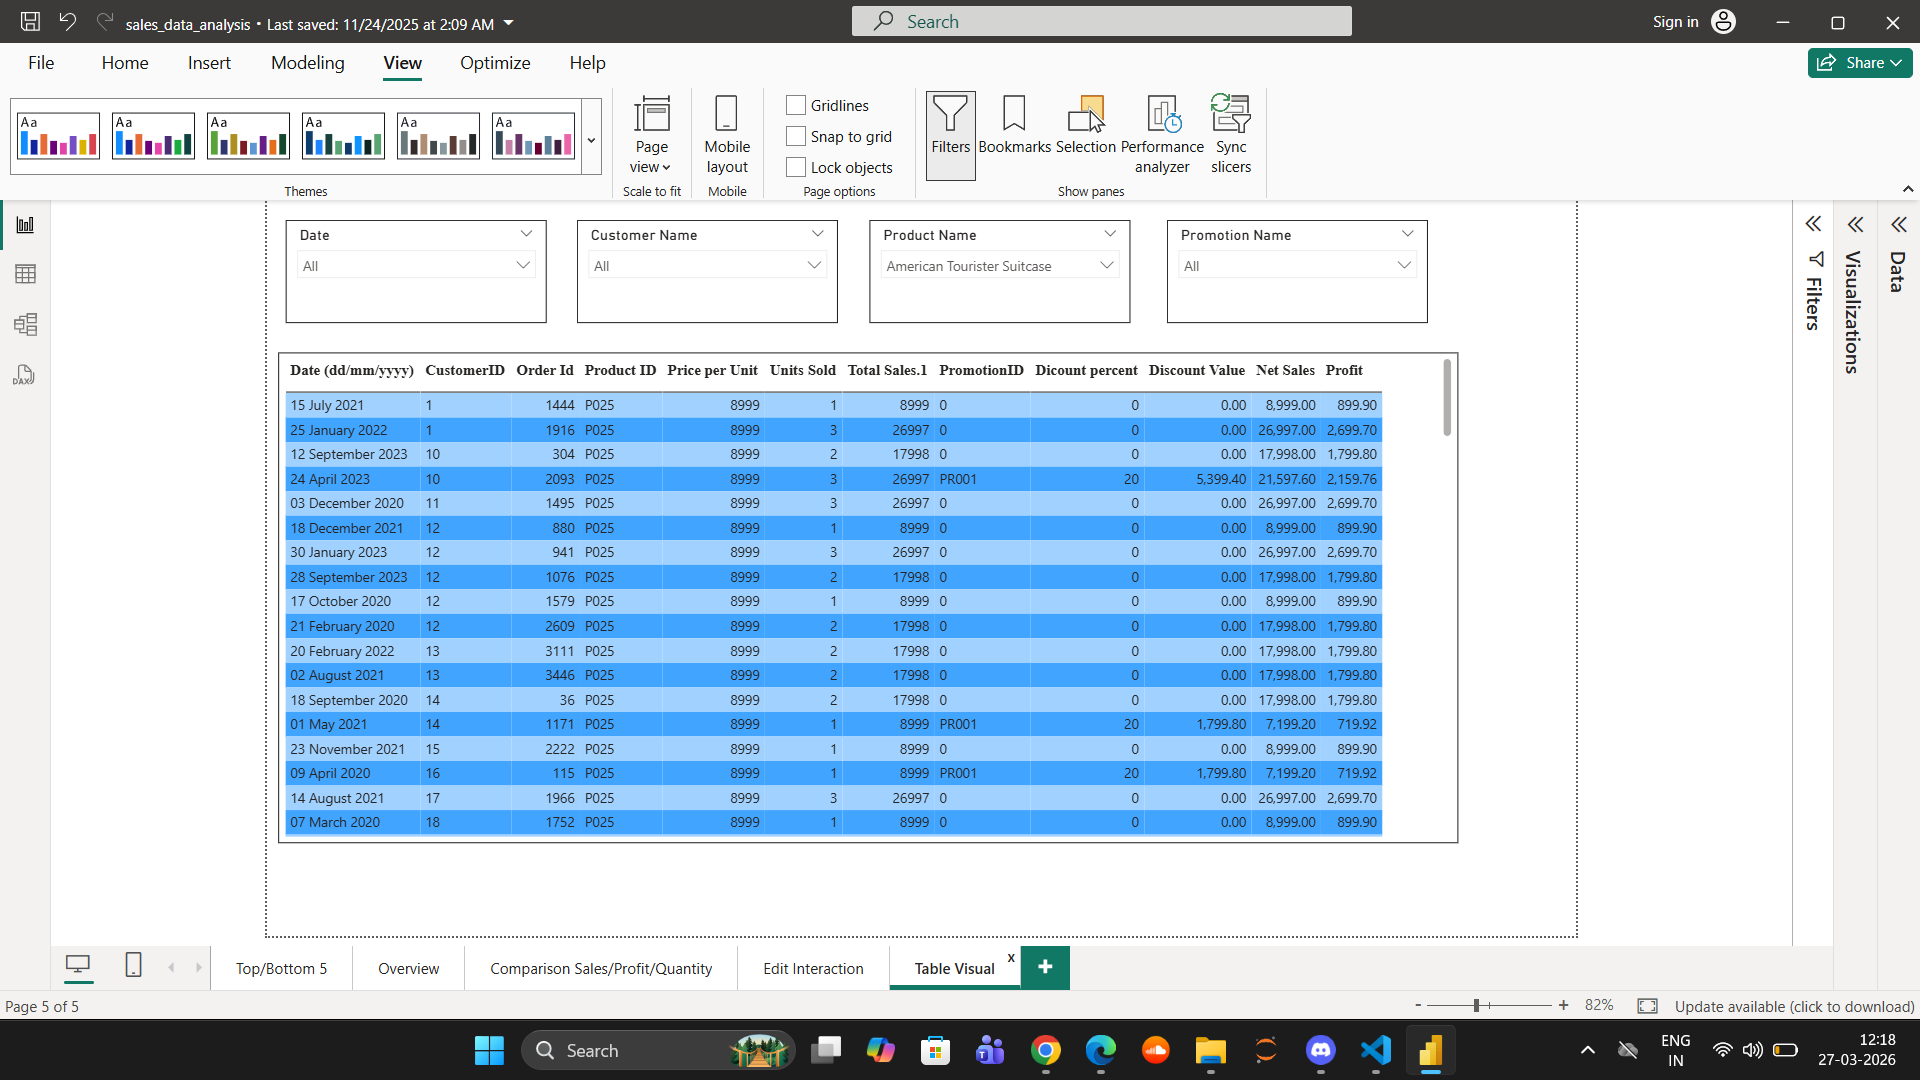

This screenshot's page, from the dashboard's own definition file:
{"tool":"powerbi","page":{"name":"Table Visual","canvas":[1280,720],"ordinal":4},"visuals":[{"type":"tableEx","fields":{"Values":["Fact Table.Date (dd/mm/yyyy)","Fact Table.CustomerID","Fact Table.Order Id","Fact Table.Product ID","Fact Table.Price  per Unit","Fact Table.Units Sold","Fact Table.Total Sales.1","Fact Table.PromotionID","Fact Table.Dicount percent","Fact Table.Discount Value","Fact Table.Net Sales","Fact Table.Profit"]},"box":[11.1,148.9,1154.4,480],"z":0},{"type":"slicer","fields":{"Values":["Date Table 1.Date"]},"box":[18.9,20,255.6,101.1],"z":1000},{"type":"slicer","fields":{"Values":["Dim Customers.Customer Name"]},"box":[303.3,20,255.6,101.1],"z":2000},{"type":"slicer","fields":{"Values":["Dim Product.Product Name"]},"box":[588.9,20,255.6,101.1],"z":3000},{"type":"slicer","fields":{"Values":["Dim Promotion.Promotion Name"]},"box":[880,20,255.6,101.1],"z":4000}]}

Visuals, with their boxes on the page's 1280x720 design canvas (x1, y1, x2, y2). These are canvas units, not pixel positions in the 1920x1080 screenshot, which may show the page scaled, cropped or inside an application window:
tableEx - Fact Table.Date (dd/mm/yyyy) x Fact Table.CustomerID: x1=11, y1=149, x2=1166, y2=629
slicer - Date Table 1.Date: x1=19, y1=20, x2=274, y2=121
slicer - Dim Customers.Customer Name: x1=303, y1=20, x2=559, y2=121
slicer - Dim Product.Product Name: x1=589, y1=20, x2=844, y2=121
slicer - Dim Promotion.Promotion Name: x1=880, y1=20, x2=1136, y2=121
